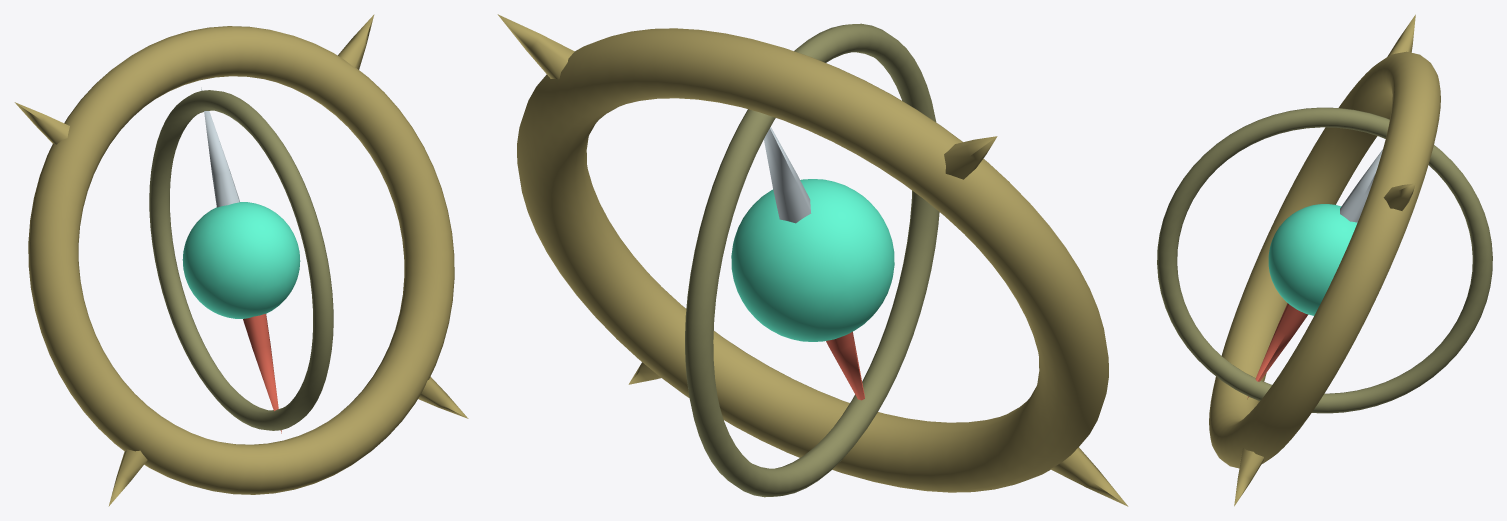
Rendered from compass.fbx.
3 renders of one model, left to right at view 1: azimuth 30°, elevation 25°; view 2: azimuth 150°, elevation 25°; view 3: azimuth 270°, elevation 25°, orthographic. The views are drawn at different scales.
Visible parts, largest first — view 1: compass; view 2: compass; view 3: compass.
Part boxes in pixels (bbox=[...]): compass: bbox=[14, 14, 468, 506]; compass: bbox=[497, 14, 1128, 506]; compass: bbox=[1157, 14, 1492, 506].
Bounding box in the file's own units: 0.1 × 0.0903 × 0.0741.
Materials: 1 (1 with a texture image).
